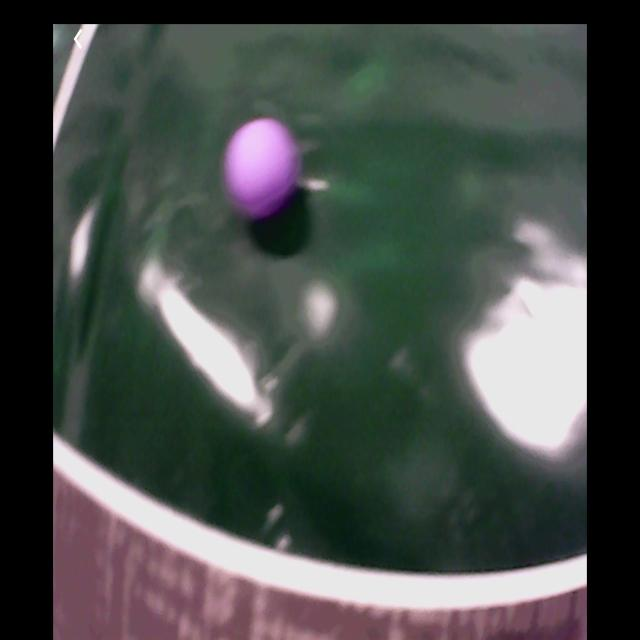ball: (225, 114, 301, 227)
